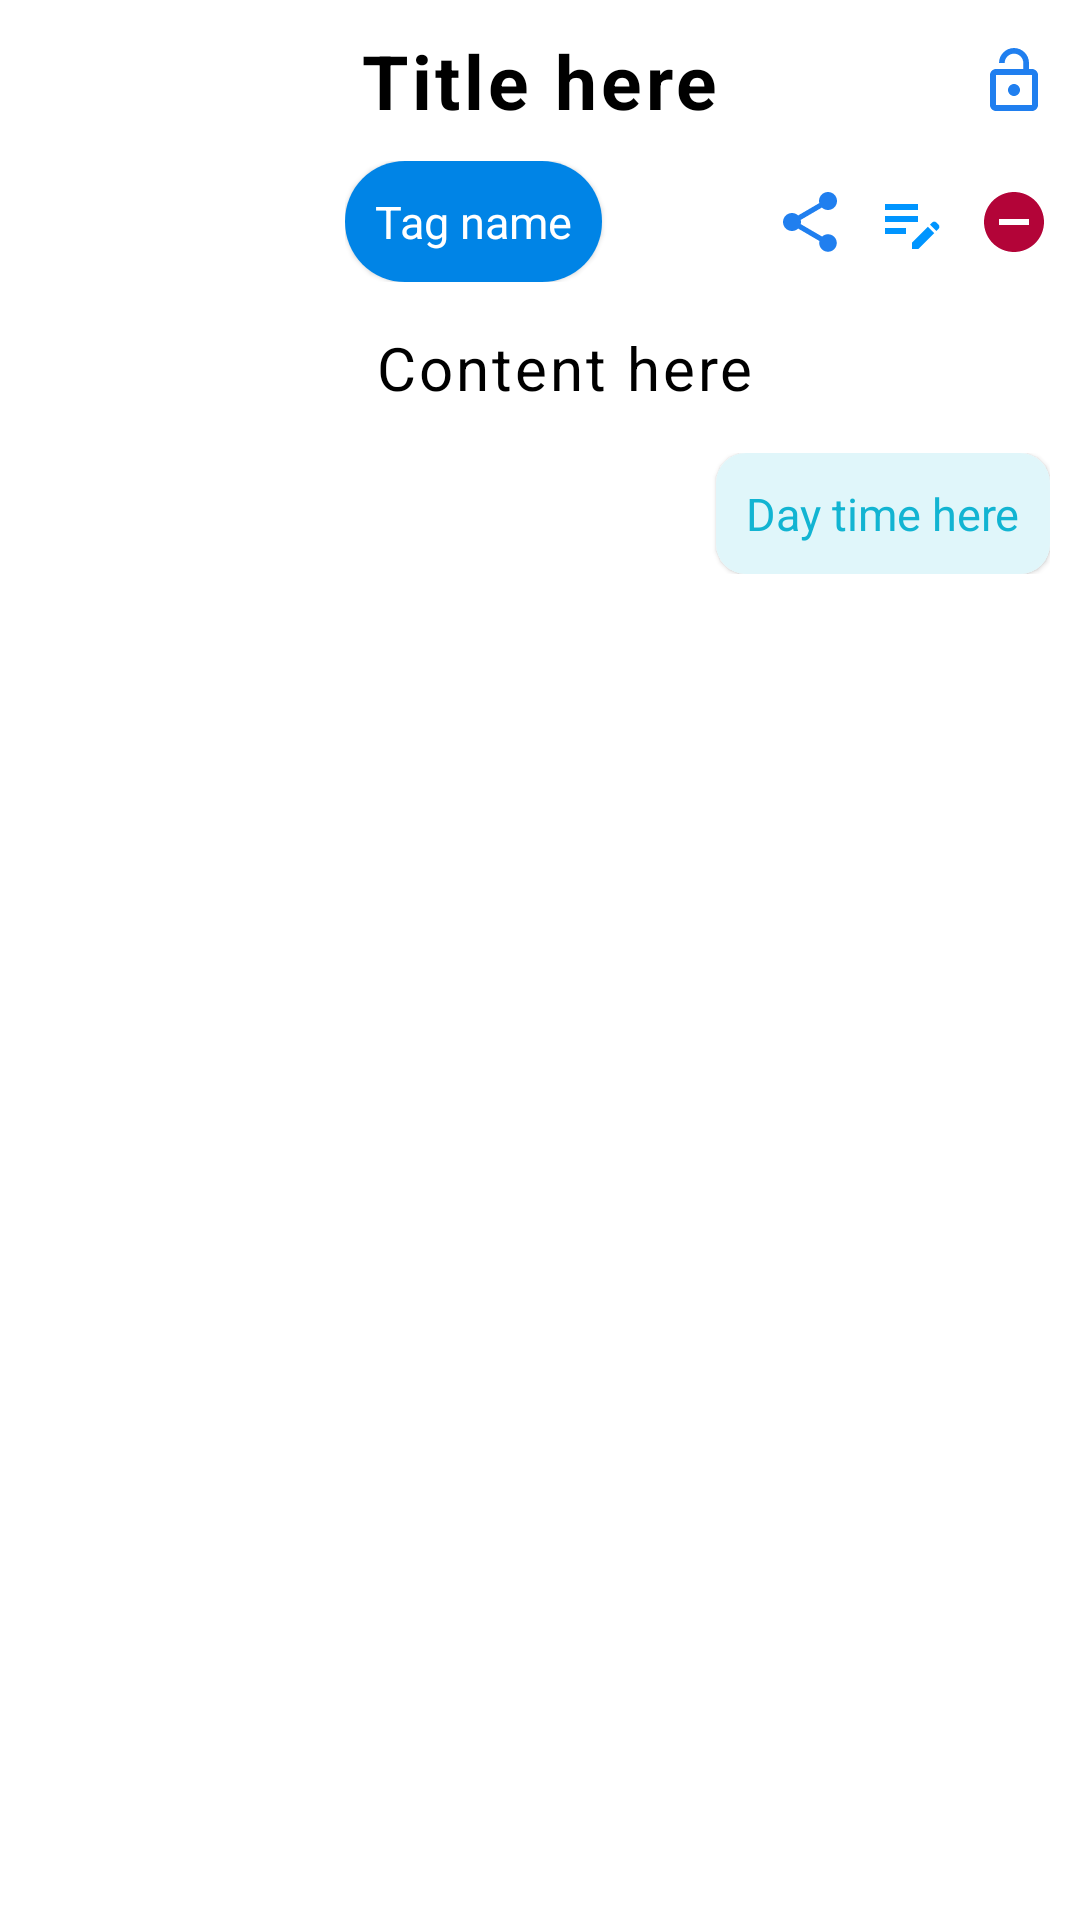

Icon click points for this 1080px x 1920px phone screenshot, format [x,y]:
edit: [912,226]
lock open: [1014,79]
remove: [1014,222]
share: [810,222]
